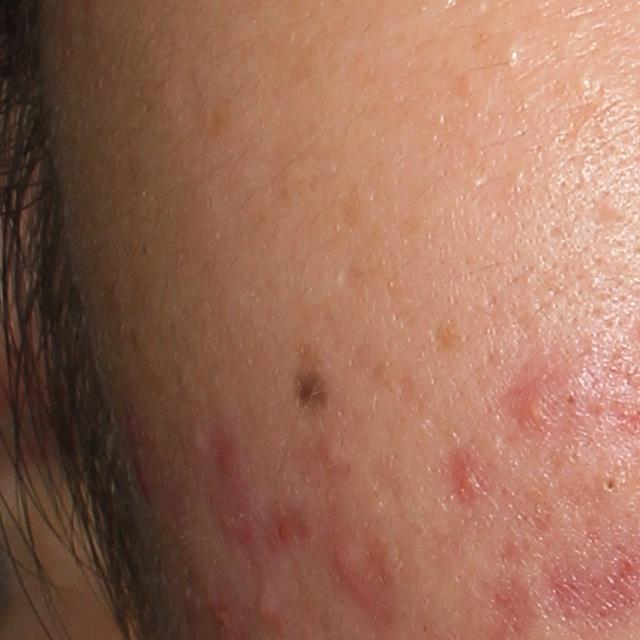atrophic_scar: (162, 67, 204, 137), (588, 192, 619, 237), (339, 266, 363, 292)
comedo: (596, 466, 623, 498), (562, 385, 582, 410)
nevus: (291, 358, 333, 420)
papule: (328, 519, 391, 616), (505, 367, 561, 438), (447, 444, 495, 505), (250, 573, 284, 633)
